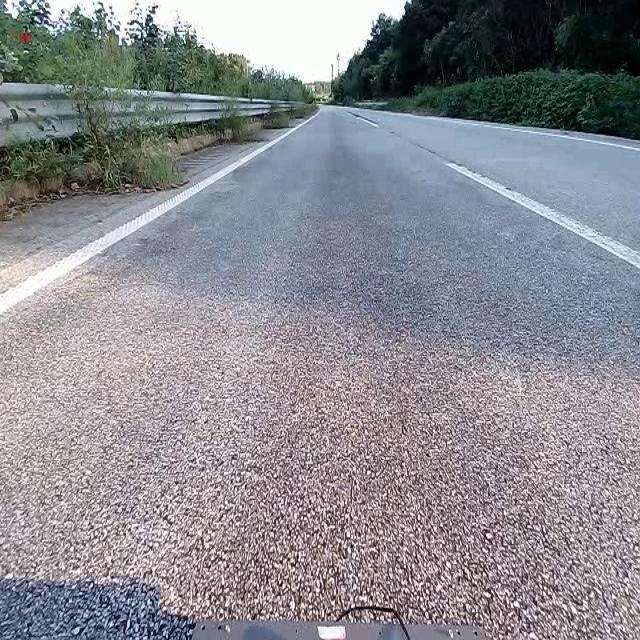Lane: (0, 108, 317, 317), (0, 118, 312, 315), (340, 100, 640, 273), (446, 162, 639, 269), (375, 111, 639, 151), (351, 113, 378, 126)
